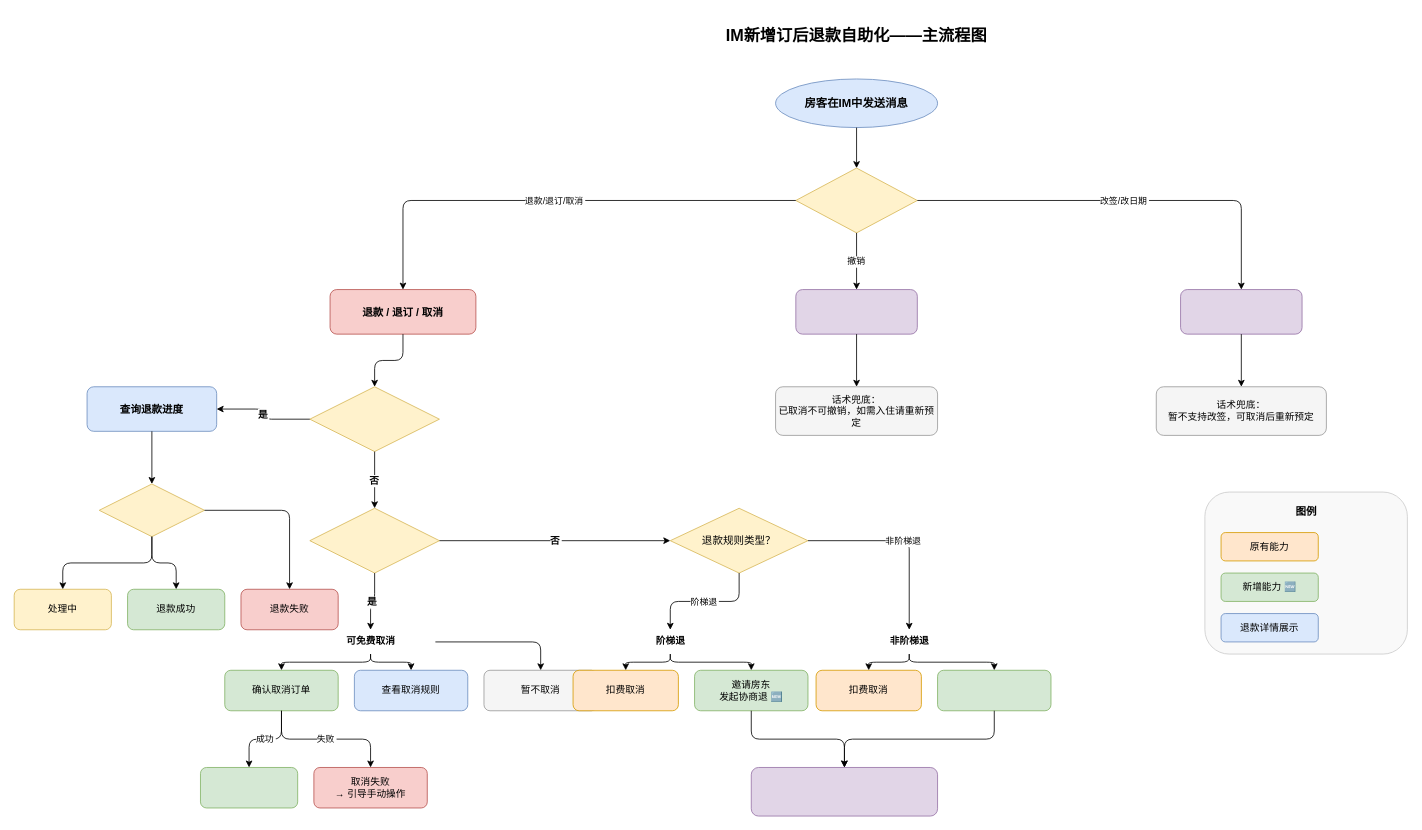
Some shapes in this 1422 by 830 pixel diagram are drawn without their labels. The box of each missing label's shape, as (x1, y1, x2, y2) in pixels:
协商退流程 房东同意 / 拒绝 → 通知房客: (750, 767, 938, 816)
取消成功: (200, 767, 298, 808)
可免费取消？: (309, 507, 439, 573)
意图识别: (795, 167, 917, 233)
房客主动 发起协商退 🆕: (937, 669, 1051, 711)
撤销取消: (795, 289, 917, 334)
改签订单: (1180, 289, 1302, 334)
订单已取消？: (309, 386, 439, 452)
退款状态: (98, 483, 205, 537)
